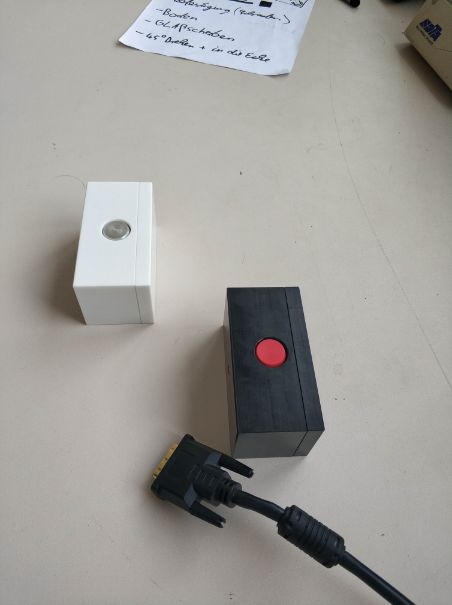black+black+red: (219, 283, 326, 463)
white+white+silver: (70, 177, 160, 326)
